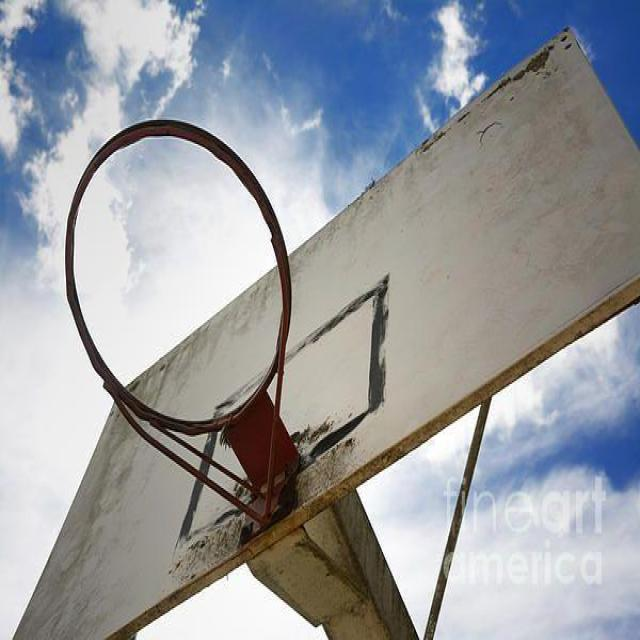hoop: (35, 120, 326, 515)
